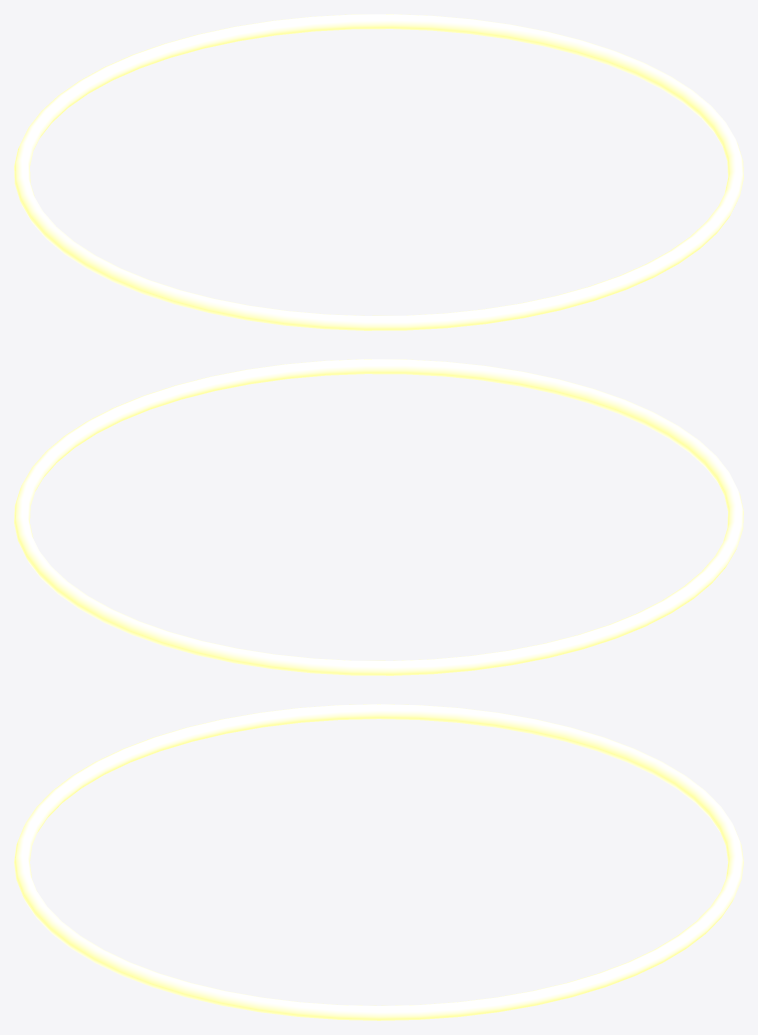
Rendered from pass_ring.glb.
The picture shows the model from 3 angles, top to bottom: view 1: azimuth 30°, elevation 25°; view 2: azimuth 150°, elevation 25°; view 3: azimuth 270°, elevation 25°; orthographic projection.
Visible parts, largest first — view 1: PassRing; view 2: PassRing; view 3: PassRing.
Part boxes in pixels (<box>): PassRing: <box>14,14,743,330</box>; PassRing: <box>14,359,743,675</box>; PassRing: <box>14,704,743,1020</box>.
Size of the model in its own units: 18.3 by 0.4 by 18.3.
